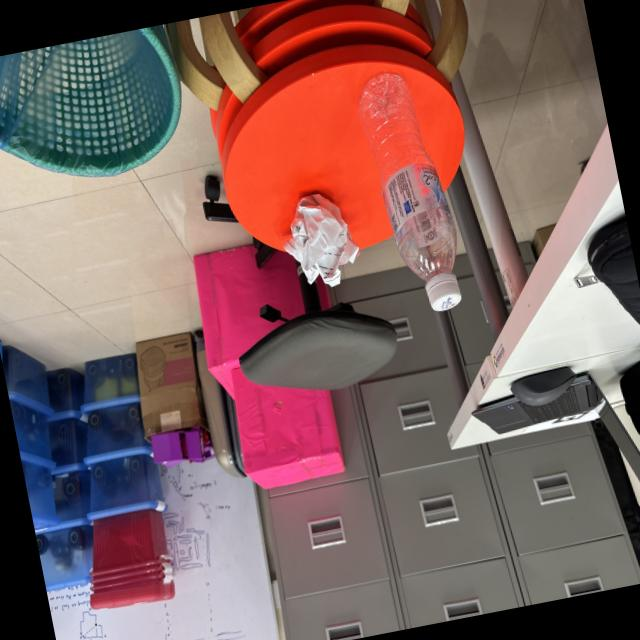crumpled_paper: (268, 174, 372, 306)
plastic_bottle: (347, 62, 476, 328)
